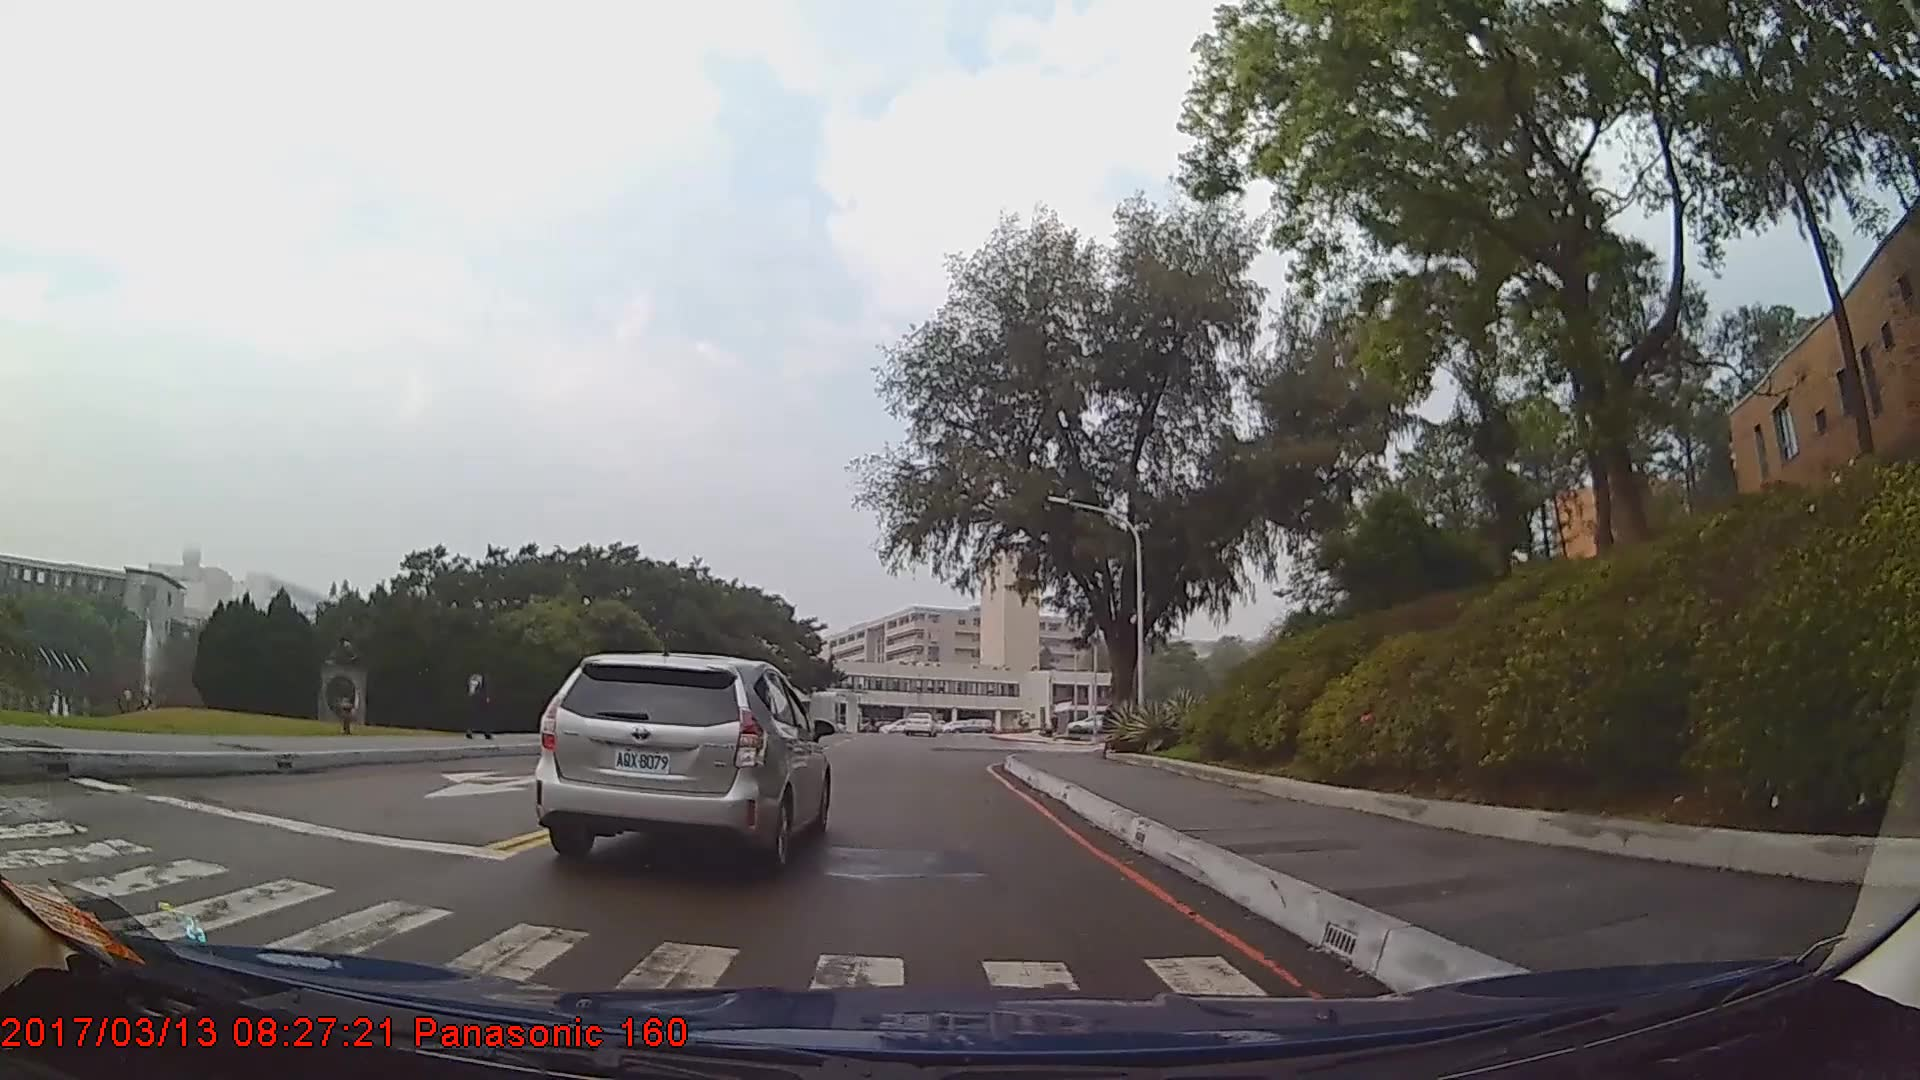pedestrian: (461, 656, 502, 740)
vehicle: (534, 649, 833, 871), (901, 707, 937, 734)
